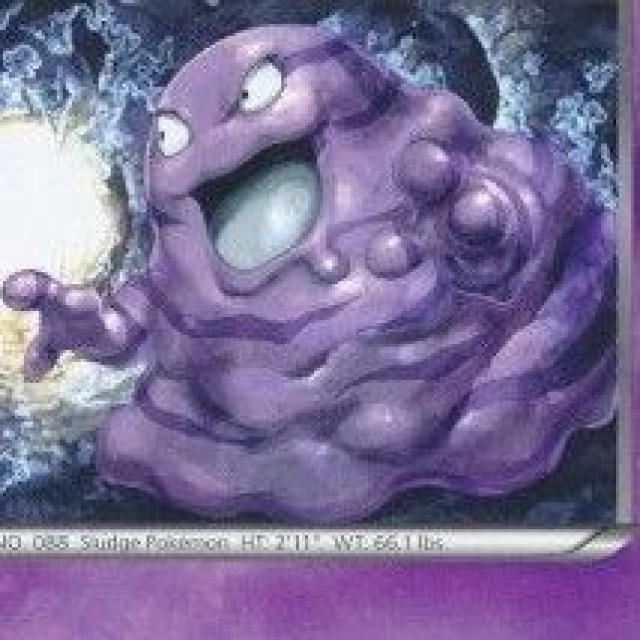Grimer: (17, 23, 624, 524)
